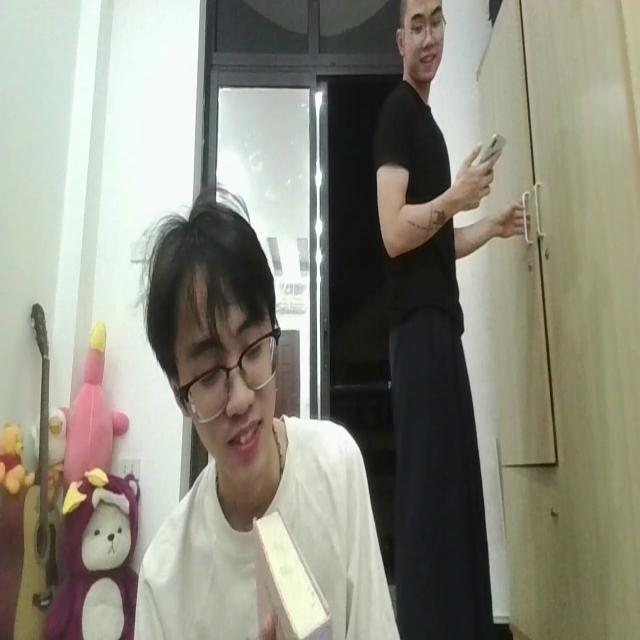book: (249, 499, 330, 640)
extra_person: (372, 0, 504, 640)
phone: (480, 126, 506, 168)
student: (127, 184, 403, 640)
